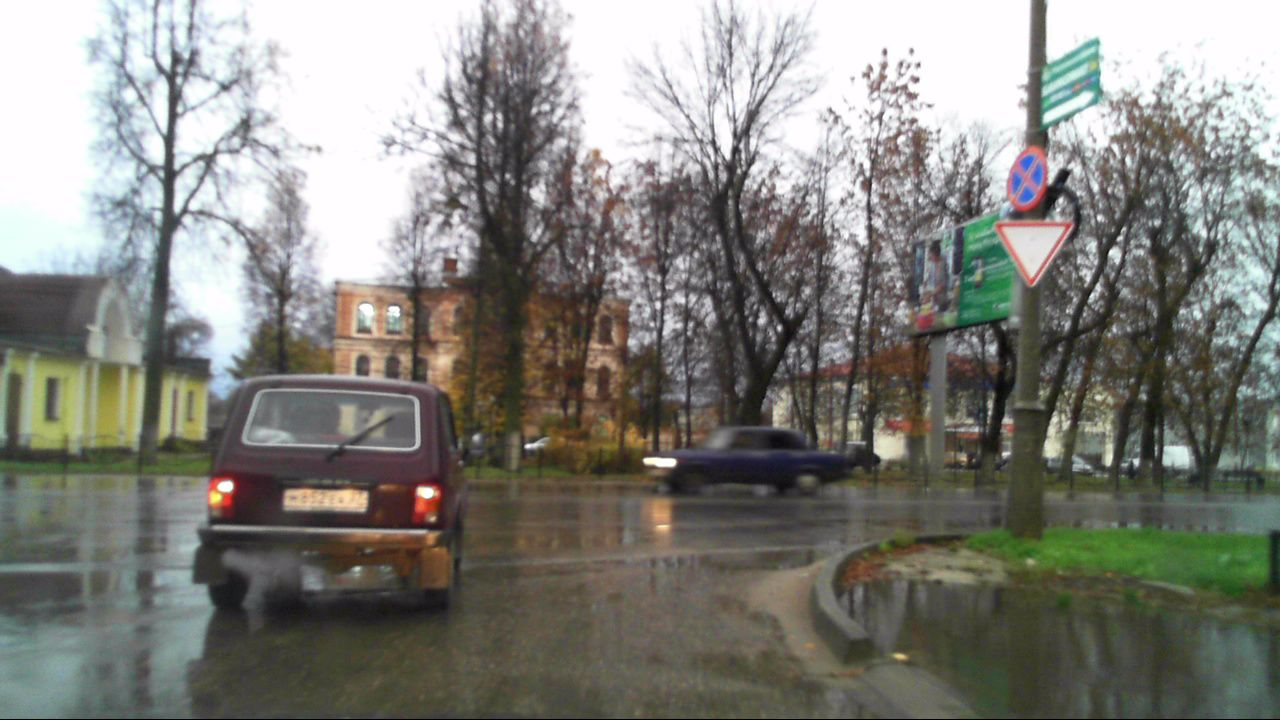No Parking: (1007, 146, 1047, 211)
